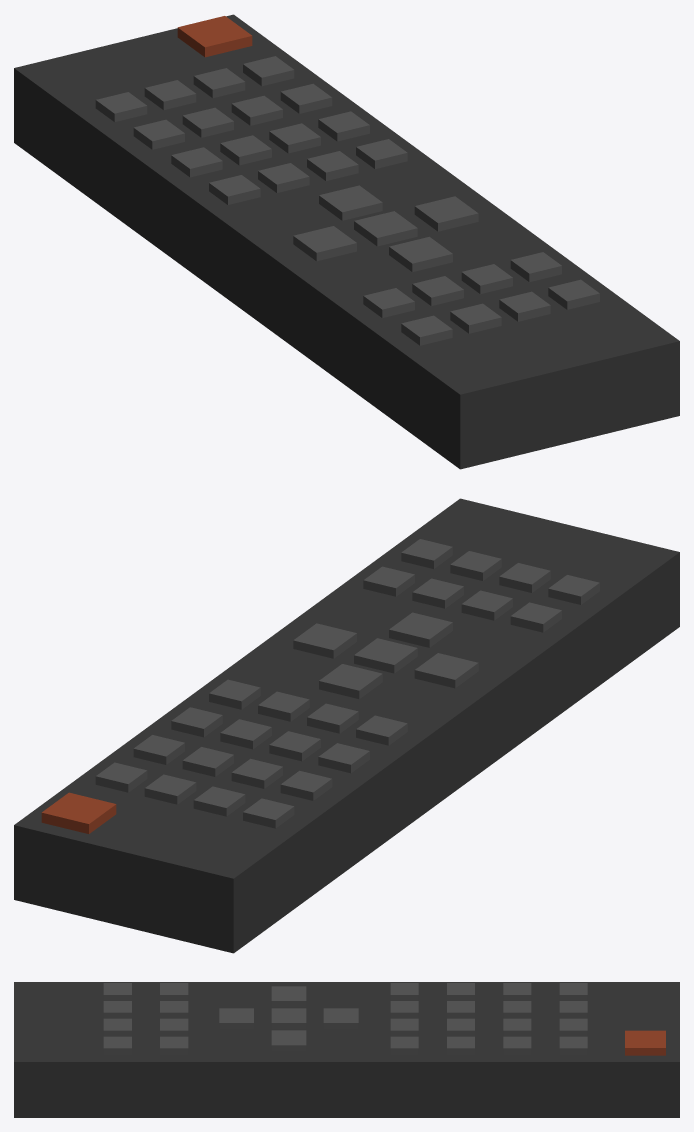
File: SM_Props_TV_03.fbx
3 views of the same model, one above another, from view 1: azimuth 30°, elevation 25°; view 2: azimuth 150°, elevation 25°; view 3: azimuth 270°, elevation 25° (orthographic). The views are drawn at different scales.
Visible parts, largest first — view 1: SM_Props_TV_03; view 2: SM_Props_TV_03; view 3: SM_Props_TV_03.
Part boxes in pixels (bbox=[...]): SM_Props_TV_03: bbox=[14, 14, 679, 469]; SM_Props_TV_03: bbox=[14, 498, 679, 953]; SM_Props_TV_03: bbox=[14, 982, 679, 1117].
Size of the model in its own units: 0.0567 by 0.0209 by 0.1996.
